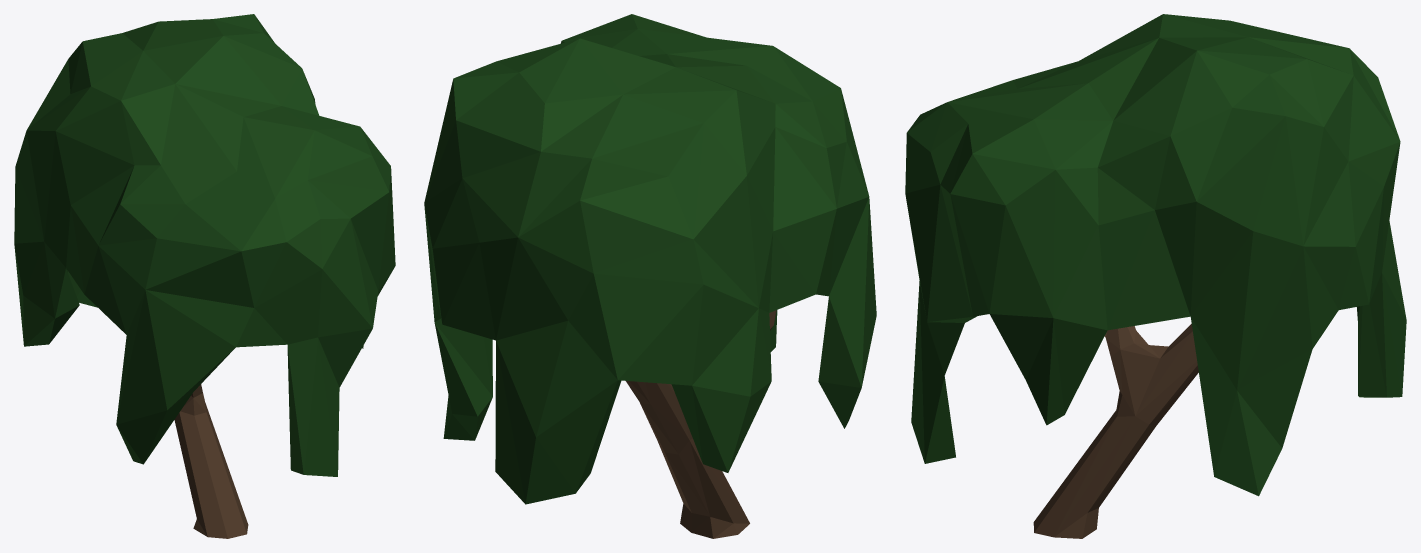
File: tree_big.glb
3 views of the same model, side by side, from view 1: azimuth 30°, elevation 25°; view 2: azimuth 150°, elevation 25°; view 3: azimuth 270°, elevation 25° (orthographic). The views are drawn at different scales.
Parts seen in each view (by area): view 1: tree_big; view 2: tree_big; view 3: tree_big.
Part boxes in pixels (bbox=[...]): tree_big: bbox=[14, 14, 395, 538]; tree_big: bbox=[424, 14, 876, 538]; tree_big: bbox=[905, 14, 1406, 538].
Bounding box in the file's own units: 2.18 × 3.41 × 3.04.
